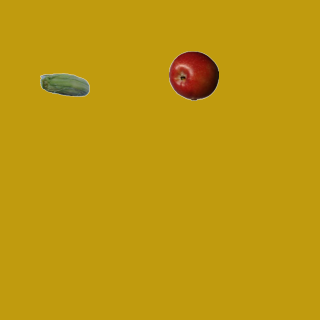Apple Braeburn: (168, 50, 218, 100)
Corn Husk: (39, 61, 89, 111)
